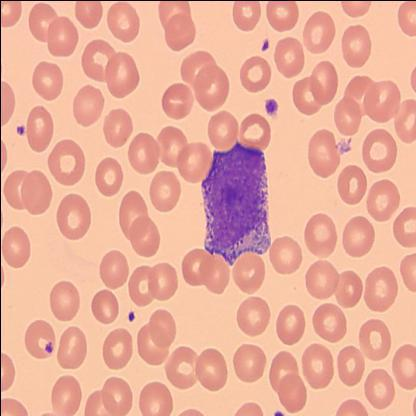Promyelocyte: (202, 143, 270, 266)
